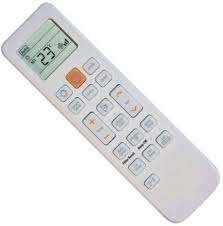remote control: (0, 2, 220, 214)
